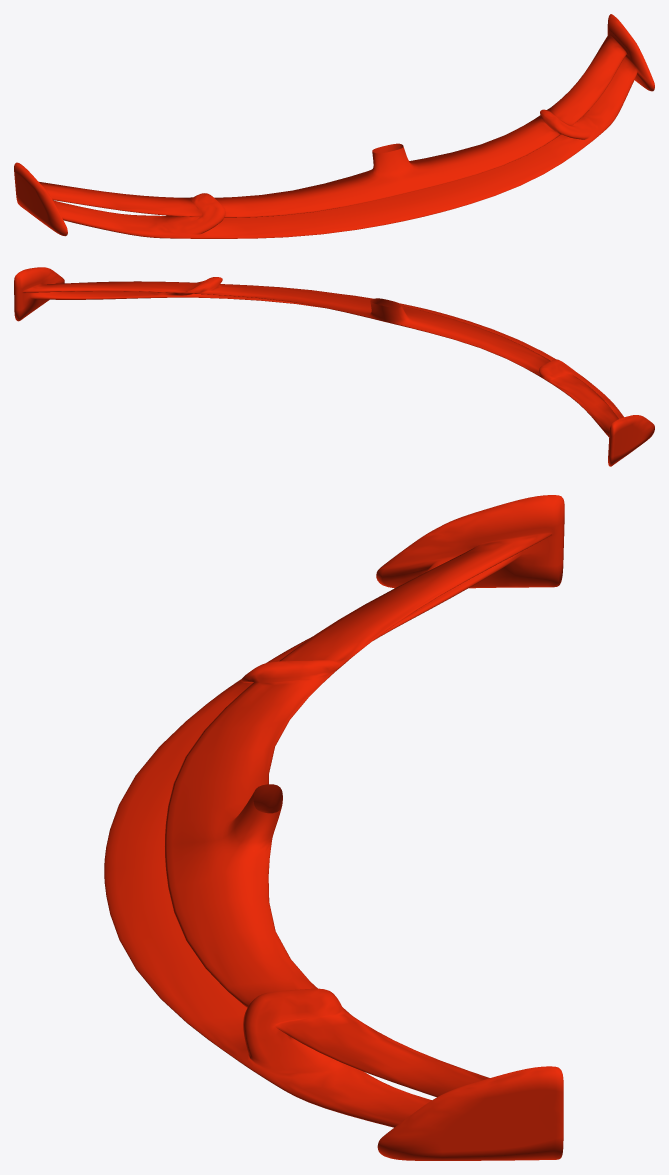
3 views of the same model, one above another, from view 1: azimuth 30°, elevation 25°; view 2: azimuth 150°, elevation 25°; view 3: azimuth 270°, elevation 25° (orthographic). The views are drawn at different scales.
Visible parts, largest first — view 1: FW3; view 2: FW3; view 3: FW3.
Boxes of the visible parts, x1,y1,x2,y2 form: FW3: (14,14,654,238); FW3: (14,267,654,466); FW3: (104,495,564,1160).
Size of the model in its own units: 2.52 by 0.1951 by 0.8404.
